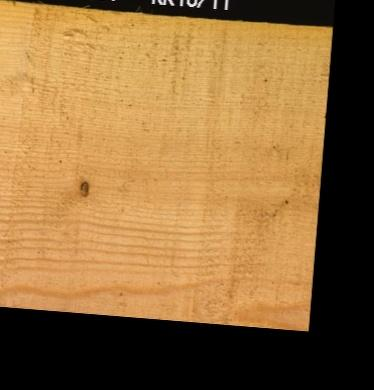dry_knot: (77, 177, 88, 196)
small_knot: (280, 194, 289, 204)
